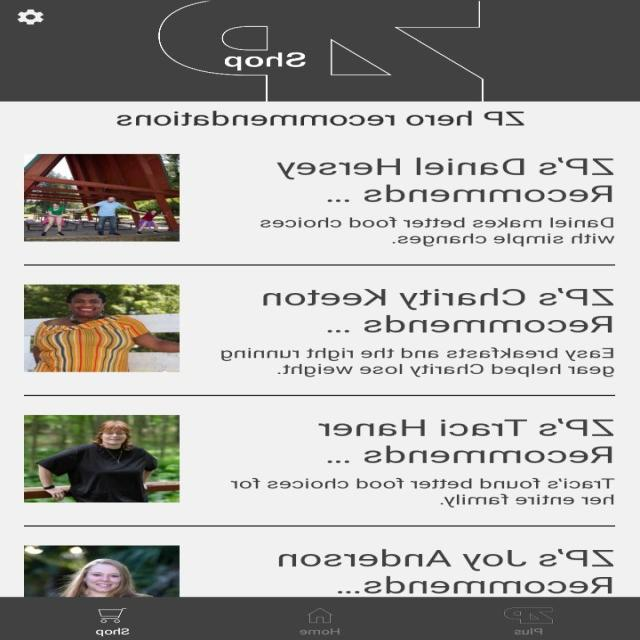Icon: (18, 9, 46, 25), (100, 607, 128, 622), (307, 608, 333, 622)
Image: (160, 0, 484, 101), (24, 284, 180, 372), (24, 415, 180, 502), (24, 154, 180, 241), (24, 545, 180, 597), (504, 607, 553, 623)
Text: (263, 288, 614, 333), (279, 548, 614, 594), (278, 157, 614, 202), (319, 418, 614, 463), (221, 346, 615, 377), (231, 477, 616, 508), (260, 216, 616, 246), (118, 111, 526, 126), (225, 52, 307, 71), (97, 628, 131, 636), (300, 628, 340, 634), (514, 627, 542, 634)
